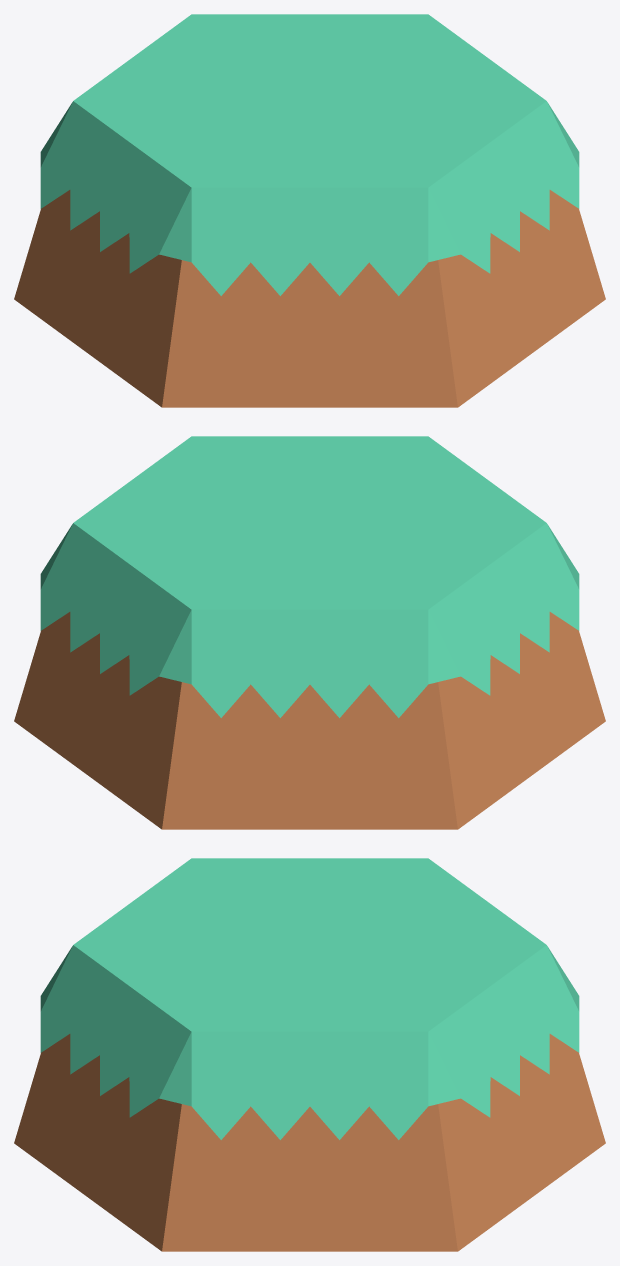
The model's file is blockHexagonLow.fbx.
3 views of the same model, one above another, from view 1: azimuth 30°, elevation 25°; view 2: azimuth 150°, elevation 25°; view 3: azimuth 270°, elevation 25° (orthographic).
Visible parts, largest first — view 1: blockHexagonLow; view 2: blockHexagonLow; view 3: blockHexagonLow.
Boxes of the visible parts, x1,y1,x2,y2 form: blockHexagonLow: (14, 14, 605, 407); blockHexagonLow: (14, 436, 605, 829); blockHexagonLow: (14, 858, 605, 1251).
Size of the model in its own units: 10.13 by 4.27 by 11.55.
